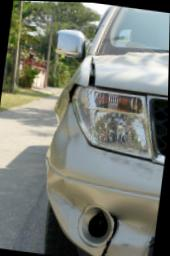Bonnet: (88, 54, 169, 94)
Bumper: (43, 132, 165, 256)
Fender: (47, 52, 97, 123)
